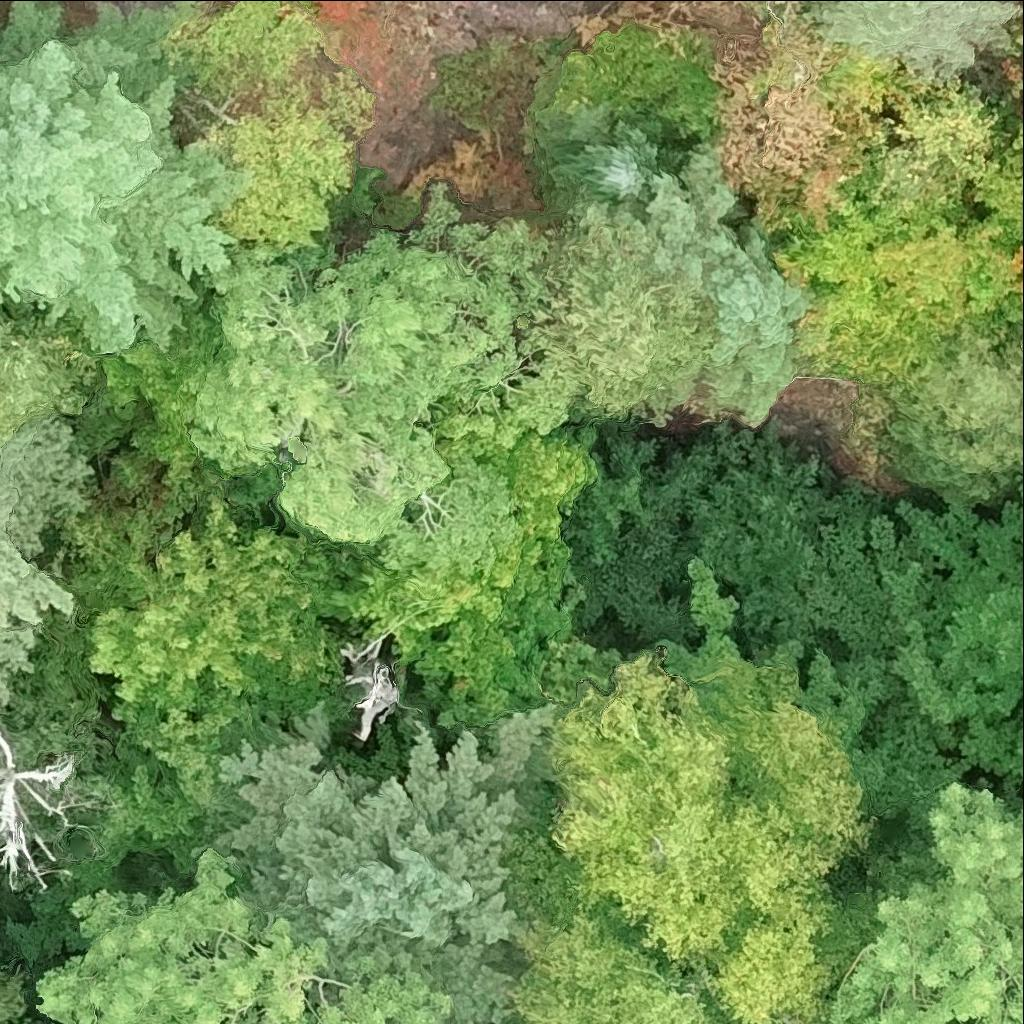crown: (550, 564, 882, 1023), (193, 185, 582, 550), (202, 706, 559, 1023), (296, 397, 625, 740), (0, 0, 245, 352), (22, 844, 453, 1023), (72, 459, 338, 746), (565, 141, 815, 428), (165, 0, 372, 256), (89, 261, 285, 529), (824, 788, 1023, 1023), (769, 164, 973, 385), (713, 0, 909, 230), (501, 832, 737, 1023), (511, 220, 714, 421), (77, 701, 261, 904), (0, 416, 90, 703), (871, 341, 1023, 500), (868, 67, 1003, 209), (0, 731, 101, 891), (819, 0, 1022, 77), (956, 131, 1023, 354), (536, 103, 682, 204), (0, 299, 103, 433), (616, 33, 722, 140), (557, 22, 665, 112), (343, 629, 392, 746), (0, 967, 34, 1023), (1003, 18, 1023, 99), (992, 324, 1023, 366), (1006, 120, 1023, 174), (317, 0, 364, 16)
